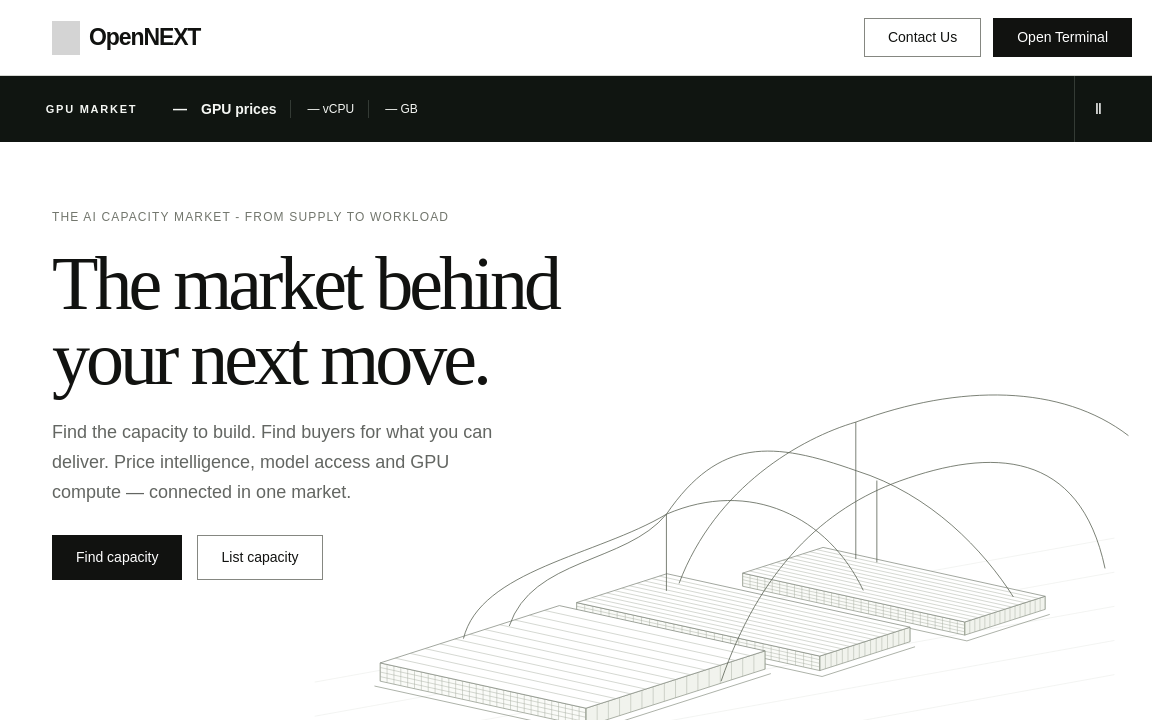
Test case: landing page › opens the Contact Us form and the Privacy modal
Click the button "Contact Us". click: (923, 38)
box: [864, 18, 981, 57]
(page scrolled)
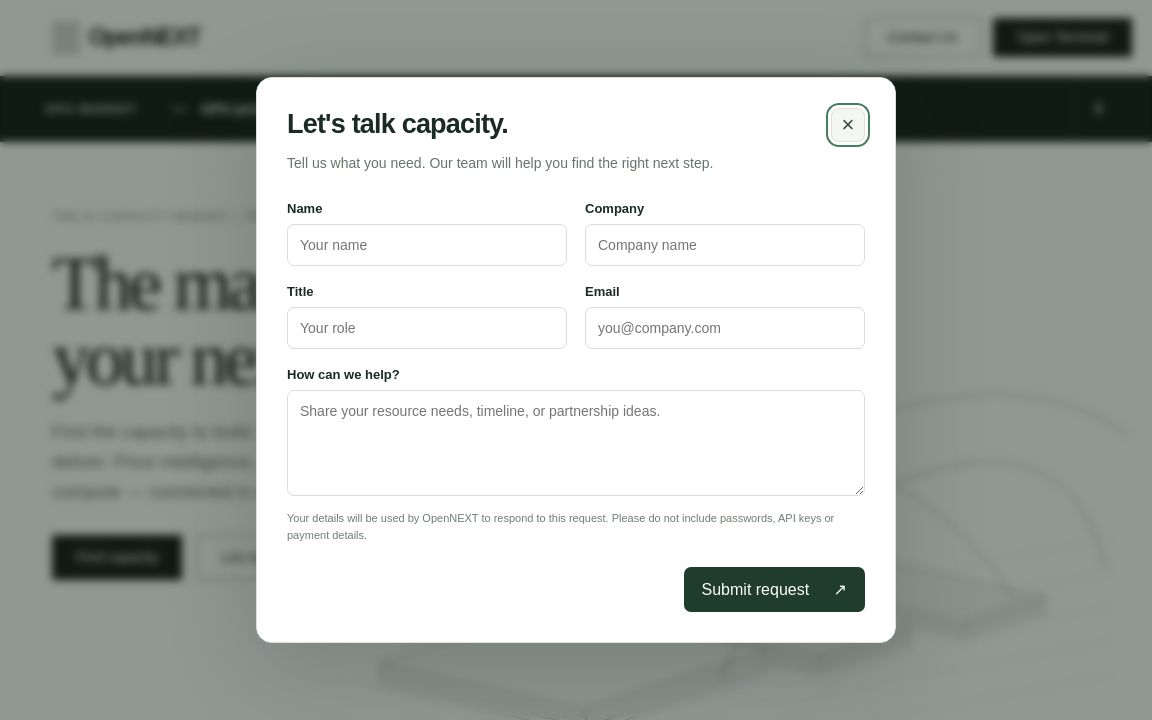
Result: the heading "Let's talk capacity." is shown at [287, 109, 508, 139]
